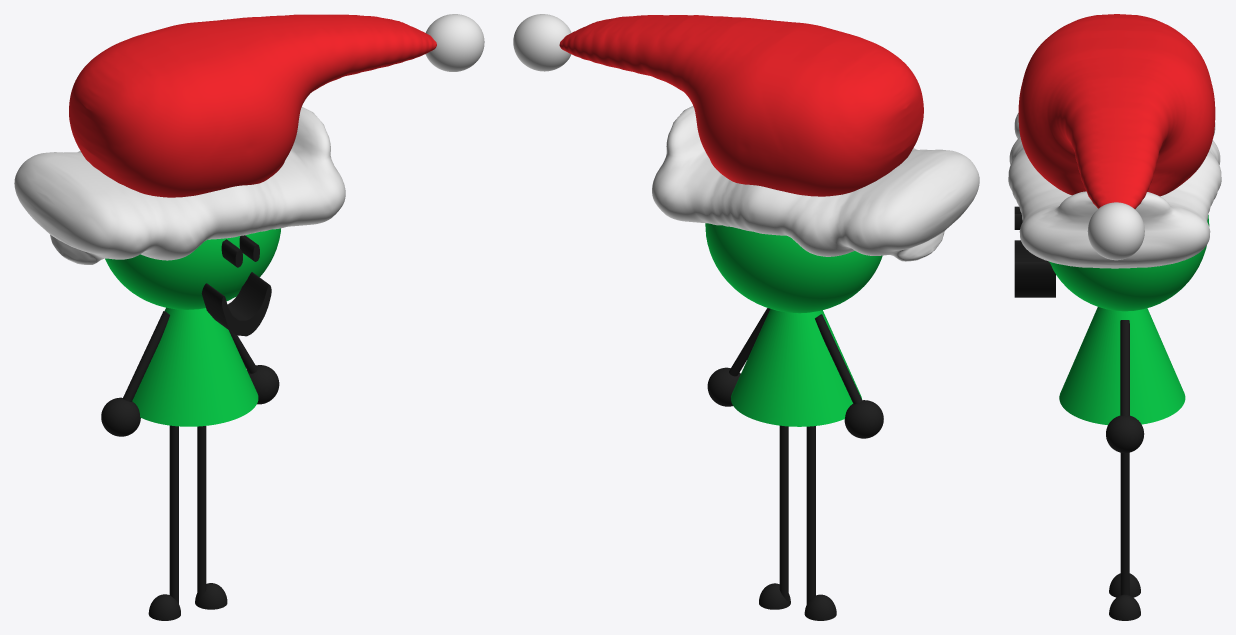
Rendered from ChristmasDude.fbx.
The picture shows the model from 3 angles, left to right: view 1: azimuth 30°, elevation 25°; view 2: azimuth 150°, elevation 25°; view 3: azimuth 270°, elevation 25°; orthographic projection.
Parts seen in each view (by area): view 1: mesh_id30, mesh_id28, mesh_id49, mesh_id27, mesh_id44, mesh_id33, mesh_id51, mesh_id62, mesh_id78, mesh_id77, mesh_id67, mesh_id53; view 2: mesh_id30, mesh_id28, mesh_id49, mesh_id27, mesh_id33, mesh_id51, mesh_id62, mesh_id78, mesh_id77, mesh_id67, mesh_id53; view 3: mesh_id30, mesh_id28, mesh_id49, mesh_id27, mesh_id33, mesh_id44, mesh_id62, mesh_id67, mesh_id69, mesh_id61, mesh_id53.
Boxes of the visible parts, x1=… form: mesh_id30: x1=69, y1=14, x2=436, y2=197; mesh_id28: x1=14, y1=107, x2=345, y2=264; mesh_id49: x1=132, y1=307, x2=258, y2=426; mesh_id27: x1=105, y1=228, x2=280, y2=309; mesh_id44: x1=201, y1=235, x2=271, y2=336; mesh_id33: x1=425, y1=14, x2=484, y2=71; mesh_id51: x1=169, y1=425, x2=178, y2=603; mesh_id62: x1=197, y1=426, x2=206, y2=600; mesh_id78: x1=101, y1=397, x2=140, y2=436; mesh_id77: x1=123, y1=311, x2=169, y2=401; mesh_id67: x1=247, y1=365, x2=279, y2=404; mesh_id53: x1=148, y1=594, x2=180, y2=620; mesh_id30: x1=559, y1=15, x2=923, y2=196; mesh_id28: x1=652, y1=106, x2=979, y2=261; mesh_id49: x1=731, y1=309, x2=862, y2=426; mesh_id27: x1=705, y1=223, x2=882, y2=313; mesh_id33: x1=513, y1=14, x2=571, y2=71; mesh_id51: x1=806, y1=426, x2=815, y2=603; mesh_id62: x1=779, y1=425, x2=788, y2=600; mesh_id78: x1=844, y1=400, x2=883, y2=438; mesh_id77: x1=815, y1=314, x2=862, y2=404; mesh_id67: x1=707, y1=367, x2=740, y2=406; mesh_id53: x1=804, y1=594, x2=836, y2=620; mesh_id30: x1=1018, y1=14, x2=1215, y2=208; mesh_id28: x1=1008, y1=113, x2=1221, y2=268; mesh_id49: x1=1059, y1=307, x2=1185, y2=425; mesh_id27: x1=1048, y1=215, x2=1209, y2=311; mesh_id33: x1=1087, y1=202, x2=1144, y2=260; mesh_id44: x1=1014, y1=206, x2=1055, y2=297; mesh_id62: x1=1120, y1=452, x2=1129, y2=595; mesh_id67: x1=1106, y1=415, x2=1144, y2=453; mesh_id69: x1=1120, y1=320, x2=1129, y2=415; mesh_id61: x1=1109, y1=594, x2=1140, y2=620; mesh_id53: x1=1109, y1=573, x2=1140, y2=597.
Size of the model in its own units: 46 by 56.98 by 19.56.
